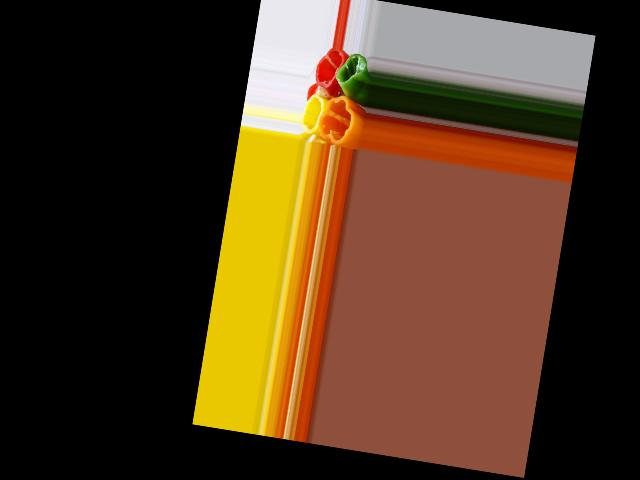bell_pepper: (312, 47, 344, 90)
